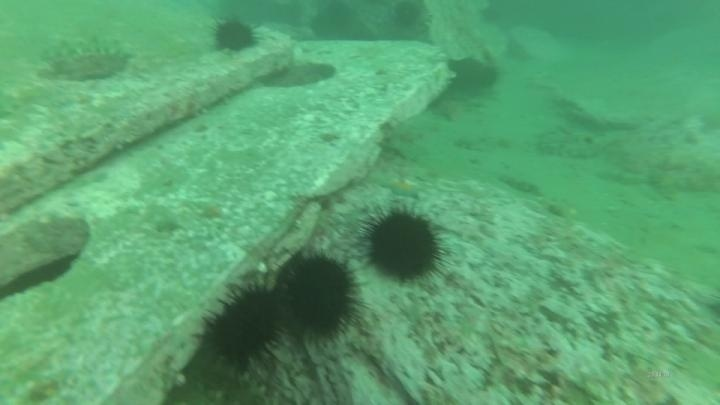echinus: (201, 279, 289, 372), (278, 249, 363, 341), (360, 206, 446, 285), (210, 16, 260, 55), (388, 1, 428, 32)
holothurian: (163, 367, 272, 405), (39, 27, 136, 67), (533, 128, 607, 162)
starfish: (380, 175, 425, 201)
